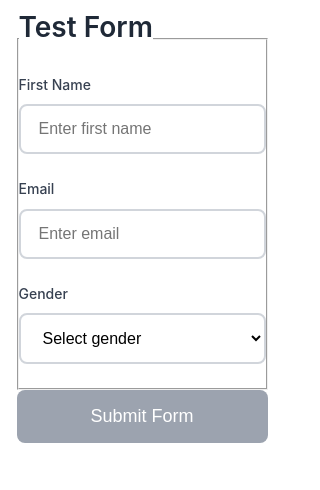
DynamicForm › shows minimum length validation error
Type "a" into the field labelled "First Name". click: (142, 129)
box: [18,104,266,154]
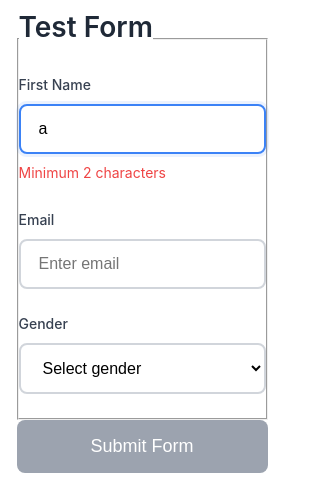
Result: the text "Minimum 2 characters" is shown at [18,164,166,181]
